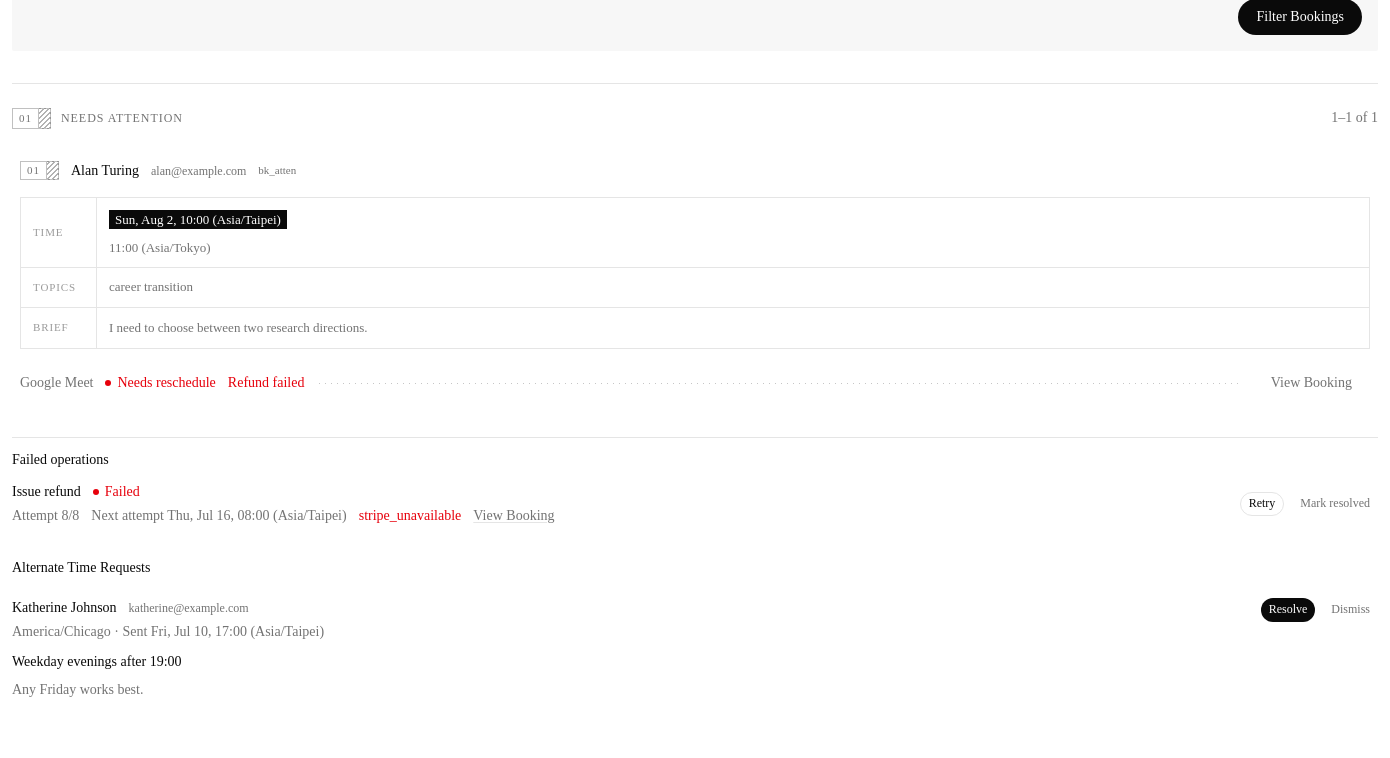
Test: AMA admin page › keeps fixture navigation and recovery actions entirely local
(page scrolled)
Expected: the link to "/admin/ama/fixtures/bookings/bk_attention" is shown, [71, 160, 139, 180]
What coordinates should you click on to do the following:
click the button "Retry"
I would click on:
 (1262, 504)
Its box is [1240, 492, 1284, 516].
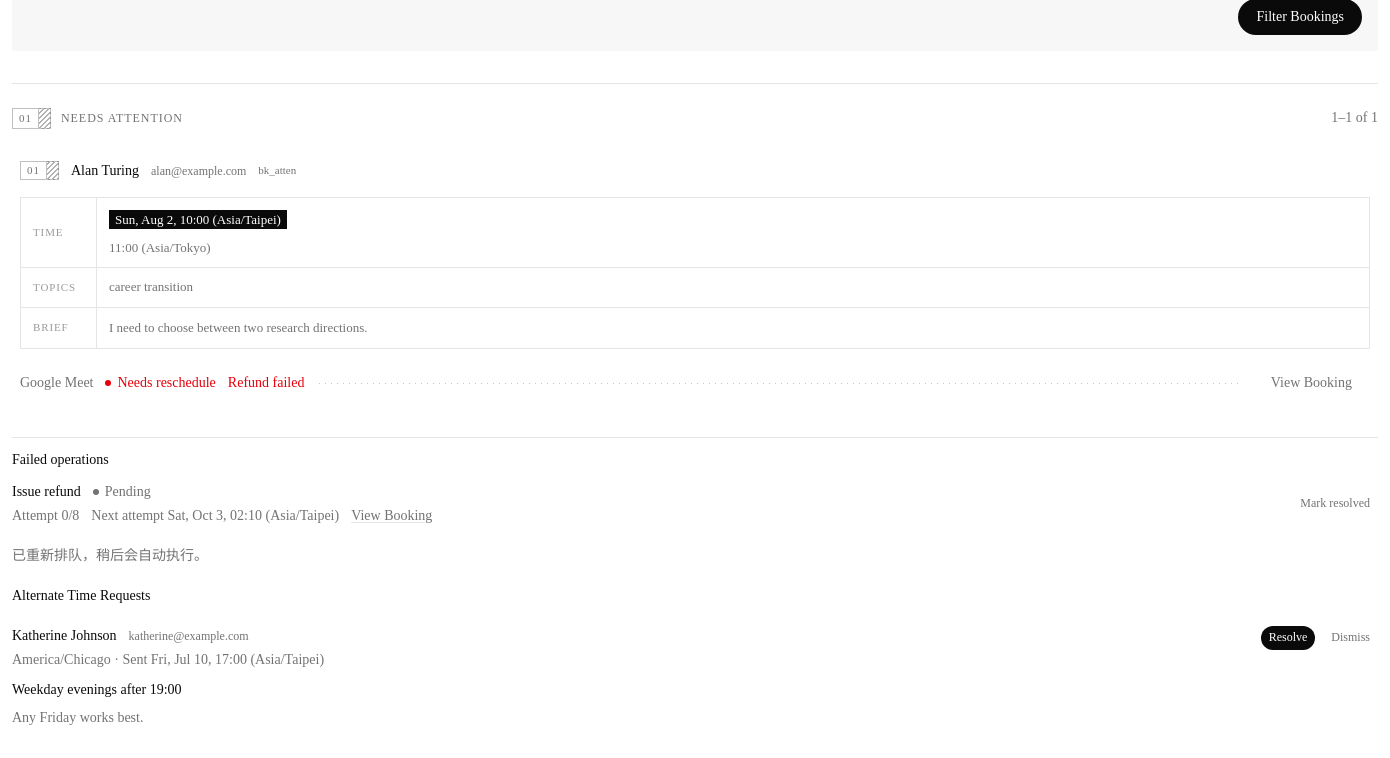
Expected: the text "stripe_unavailable" is gone
What coordinates should you click on to do the following:
click the button "Resolve"
I would click on:
 (1288, 638)
Its box is [1261, 626, 1315, 650].
(page scrolled)
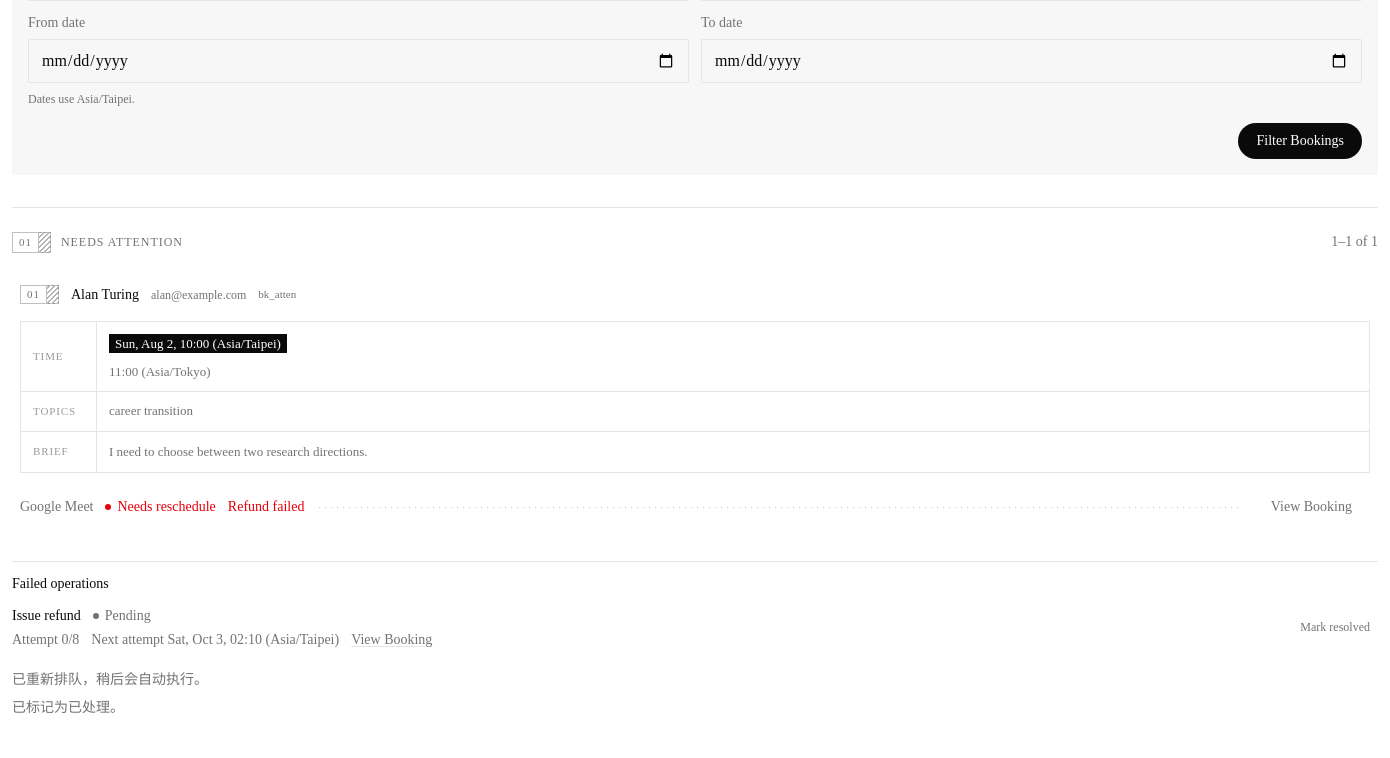
Expected: the text "katherine@example.com" is gone
